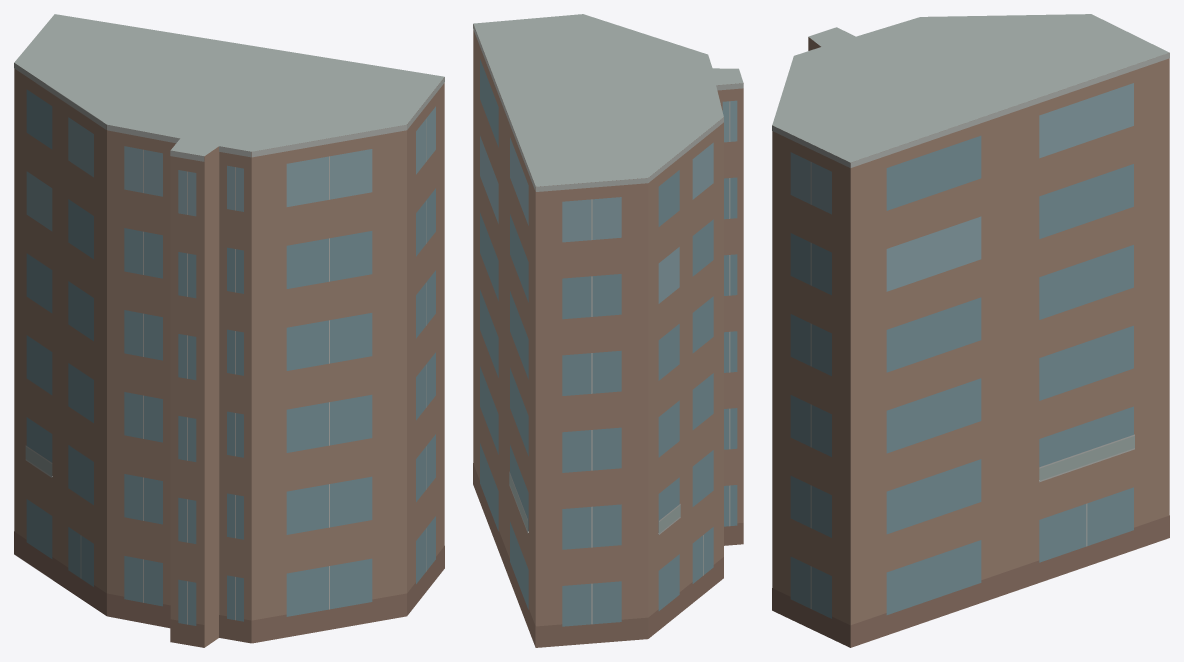
Rendered from survey-upis-32872167.glb.
The picture shows the model from 3 angles, left to right: view 1: azimuth 30°, elevation 25°; view 2: azimuth 150°, elevation 25°; view 3: azimuth 270°, elevation 25°; orthographic projection. The views are drawn at different scales.
Visible parts, largest first — view 1: survey-upis-32872167.tmp; view 2: survey-upis-32872167.tmp; view 3: survey-upis-32872167.tmp.
Part boxes in pixels (bbox=[...]): survey-upis-32872167.tmp: bbox=[14, 14, 444, 647]; survey-upis-32872167.tmp: bbox=[473, 14, 743, 647]; survey-upis-32872167.tmp: bbox=[772, 14, 1169, 647].
Size of the model in its own units: 13.94 by 21.2 by 15.75.
